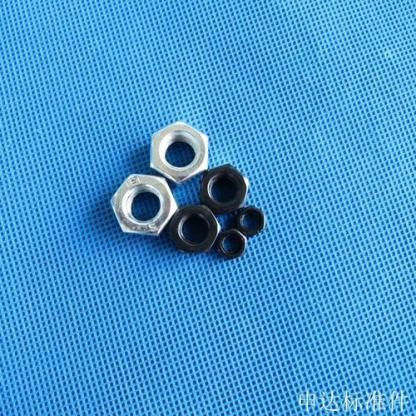FOD: (106, 169, 180, 235), (148, 119, 210, 184), (200, 160, 251, 214), (168, 206, 221, 256), (216, 227, 247, 263), (238, 204, 268, 240)
